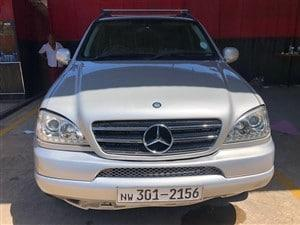license-plate: (117, 186, 202, 200)
